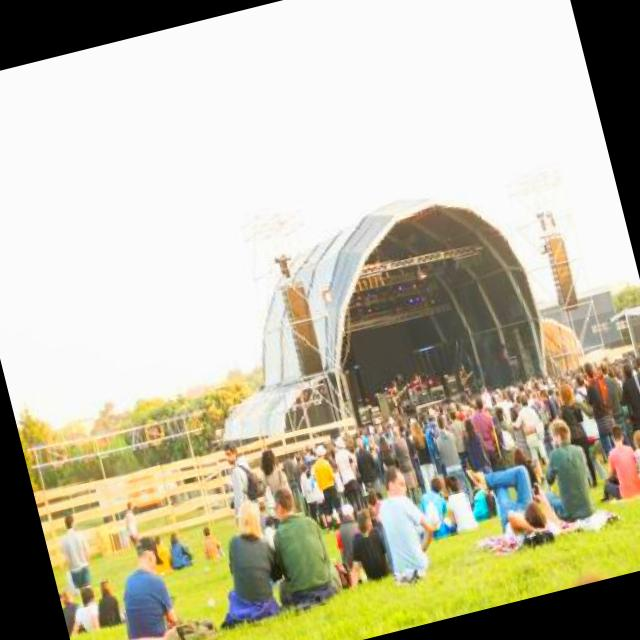Person: (180, 327, 640, 632), (102, 545, 179, 640), (51, 511, 100, 601), (58, 580, 105, 640), (88, 576, 126, 629), (58, 584, 92, 638), (116, 502, 145, 550)
